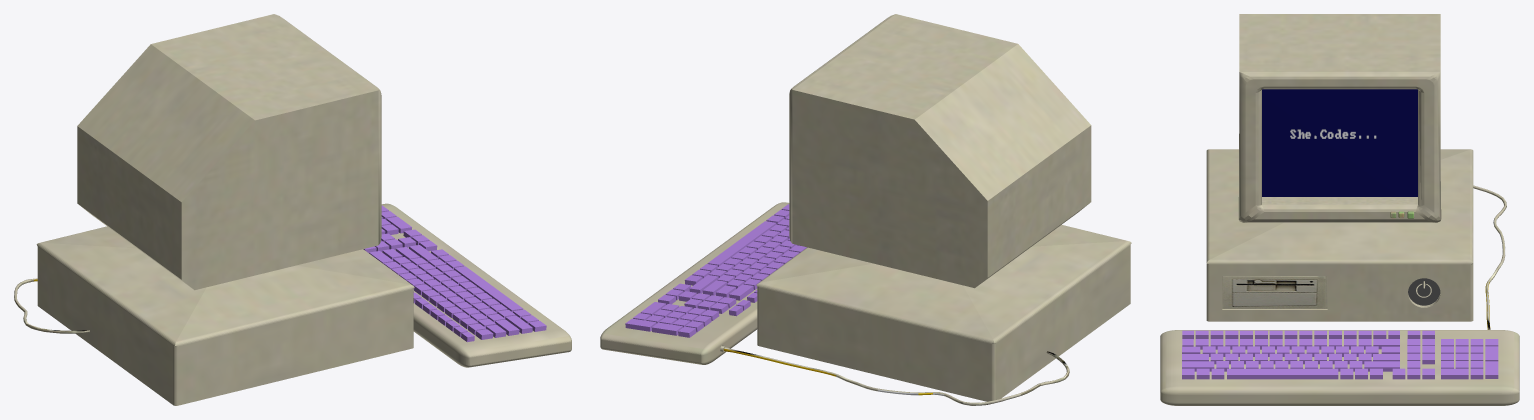
Rendered from On_She.Codes....glb.
The picture shows the model from 3 angles, left to right: view 1: azimuth 30°, elevation 25°; view 2: azimuth 150°, elevation 25°; view 3: azimuth 270°, elevation 25°; orthographic projection. The views are drawn at different scales.
Visible parts, largest first — view 1: PC; view 2: PC; view 3: PC, Onbutton.
Part boxes in pixels (box(x1,y1,x2,y2)): PC: box(14, 14, 571, 405); PC: box(600, 14, 1131, 405); PC: box(1160, 14, 1519, 405); Onbutton: box(1408, 278, 1440, 305).
Bounding box in the file's own units: 1.36 × 0.8486 × 1.05.
4 materials, 2 textured.
